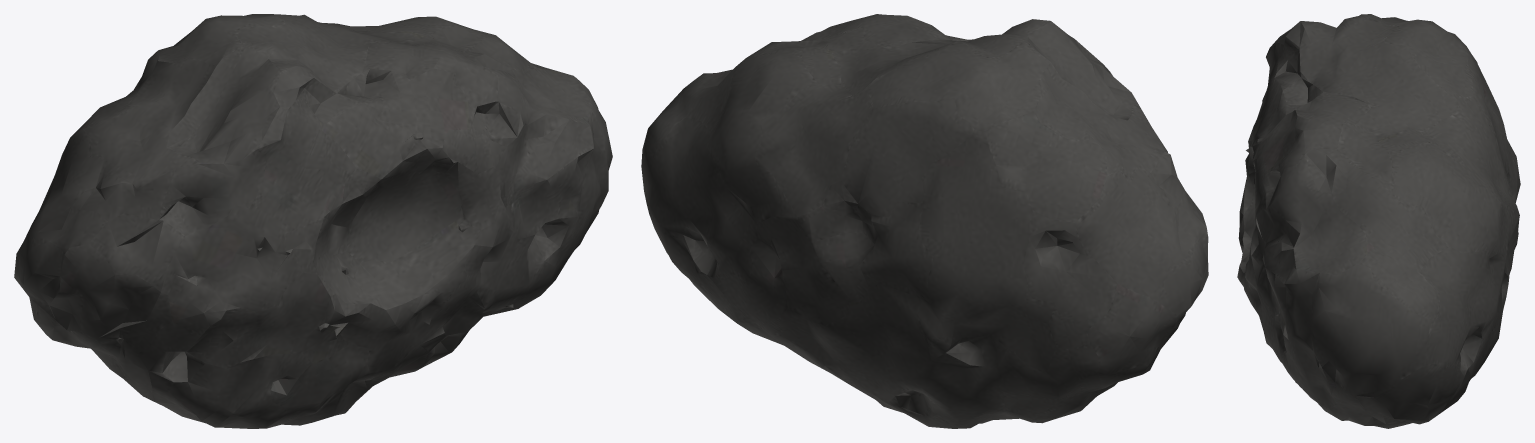
File: carbonaceous_asteroid_01_rounded_lod1.glb
3 renders of one model, left to right at view 1: azimuth 30°, elevation 25°; view 2: azimuth 150°, elevation 25°; view 3: azimuth 270°, elevation 25°, orthographic. The views are drawn at different scales.
Visible parts, largest first — view 1: mesh_node; view 2: mesh_node; view 3: mesh_node.
Part boxes in pixels (<box>): mesh_node: <box>14,14,612,428</box>; mesh_node: <box>641,14,1208,428</box>; mesh_node: <box>1237,14,1520,428</box>.
Size of the model in its own units: 2 by 1.32 by 0.9643.
1 material, 1 textured.
